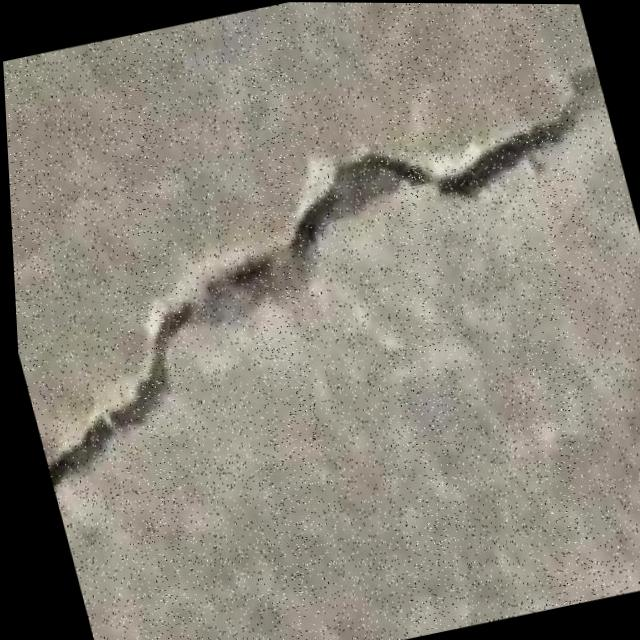Crack: (2, 48, 640, 497)
